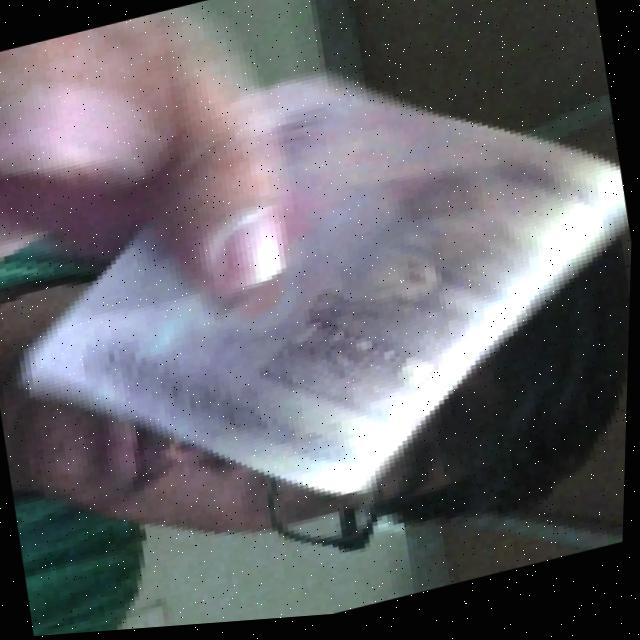50 000 VND: (0, 3, 639, 582)
